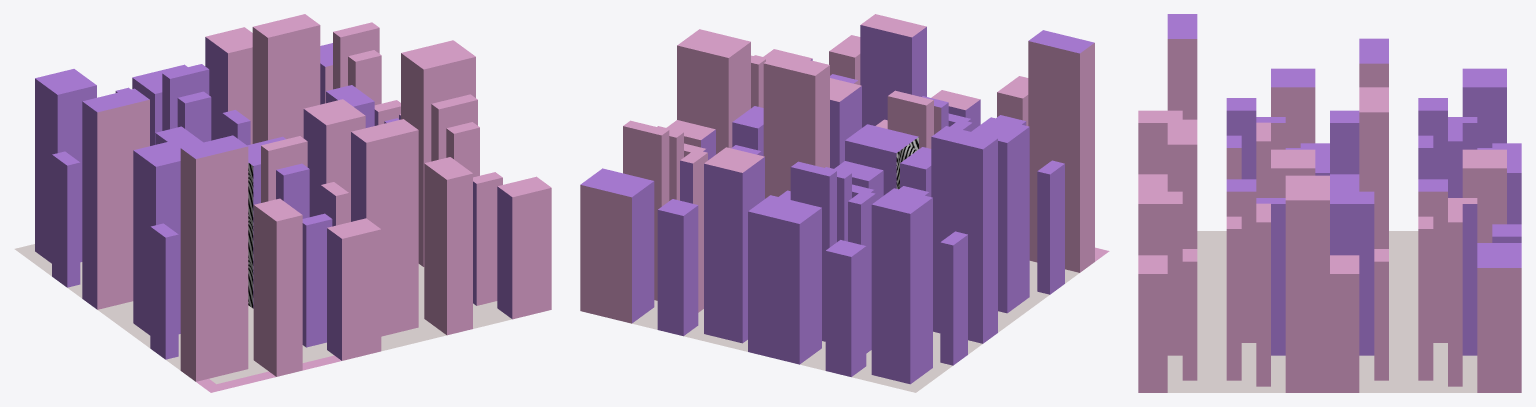
3 renders of one model, left to right at view 1: azimuth 30°, elevation 25°; view 2: azimuth 150°, elevation 25°; view 3: azimuth 270°, elevation 25°, orthographic. The views are drawn at different scales.
Parts seen in each view (by area): view 1: Scene; view 2: Scene; view 3: Scene.
Boxes of the visible parts, box(x1,y1,x2,y2) form: Scene: box(14, 14, 551, 392); Scene: box(580, 14, 1109, 392); Scene: box(1138, 14, 1521, 392).
Size of the model in its own units: 120 by 77.54 by 120.
4 materials, 1 textured.
